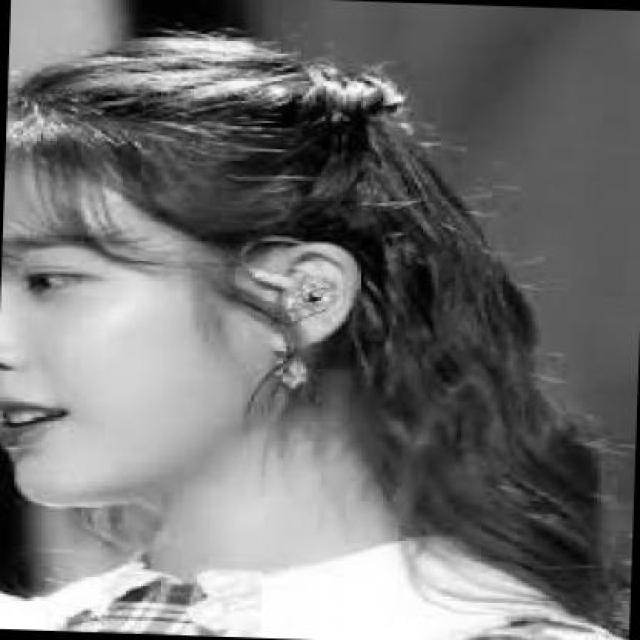earphone: (266, 276, 353, 338)
